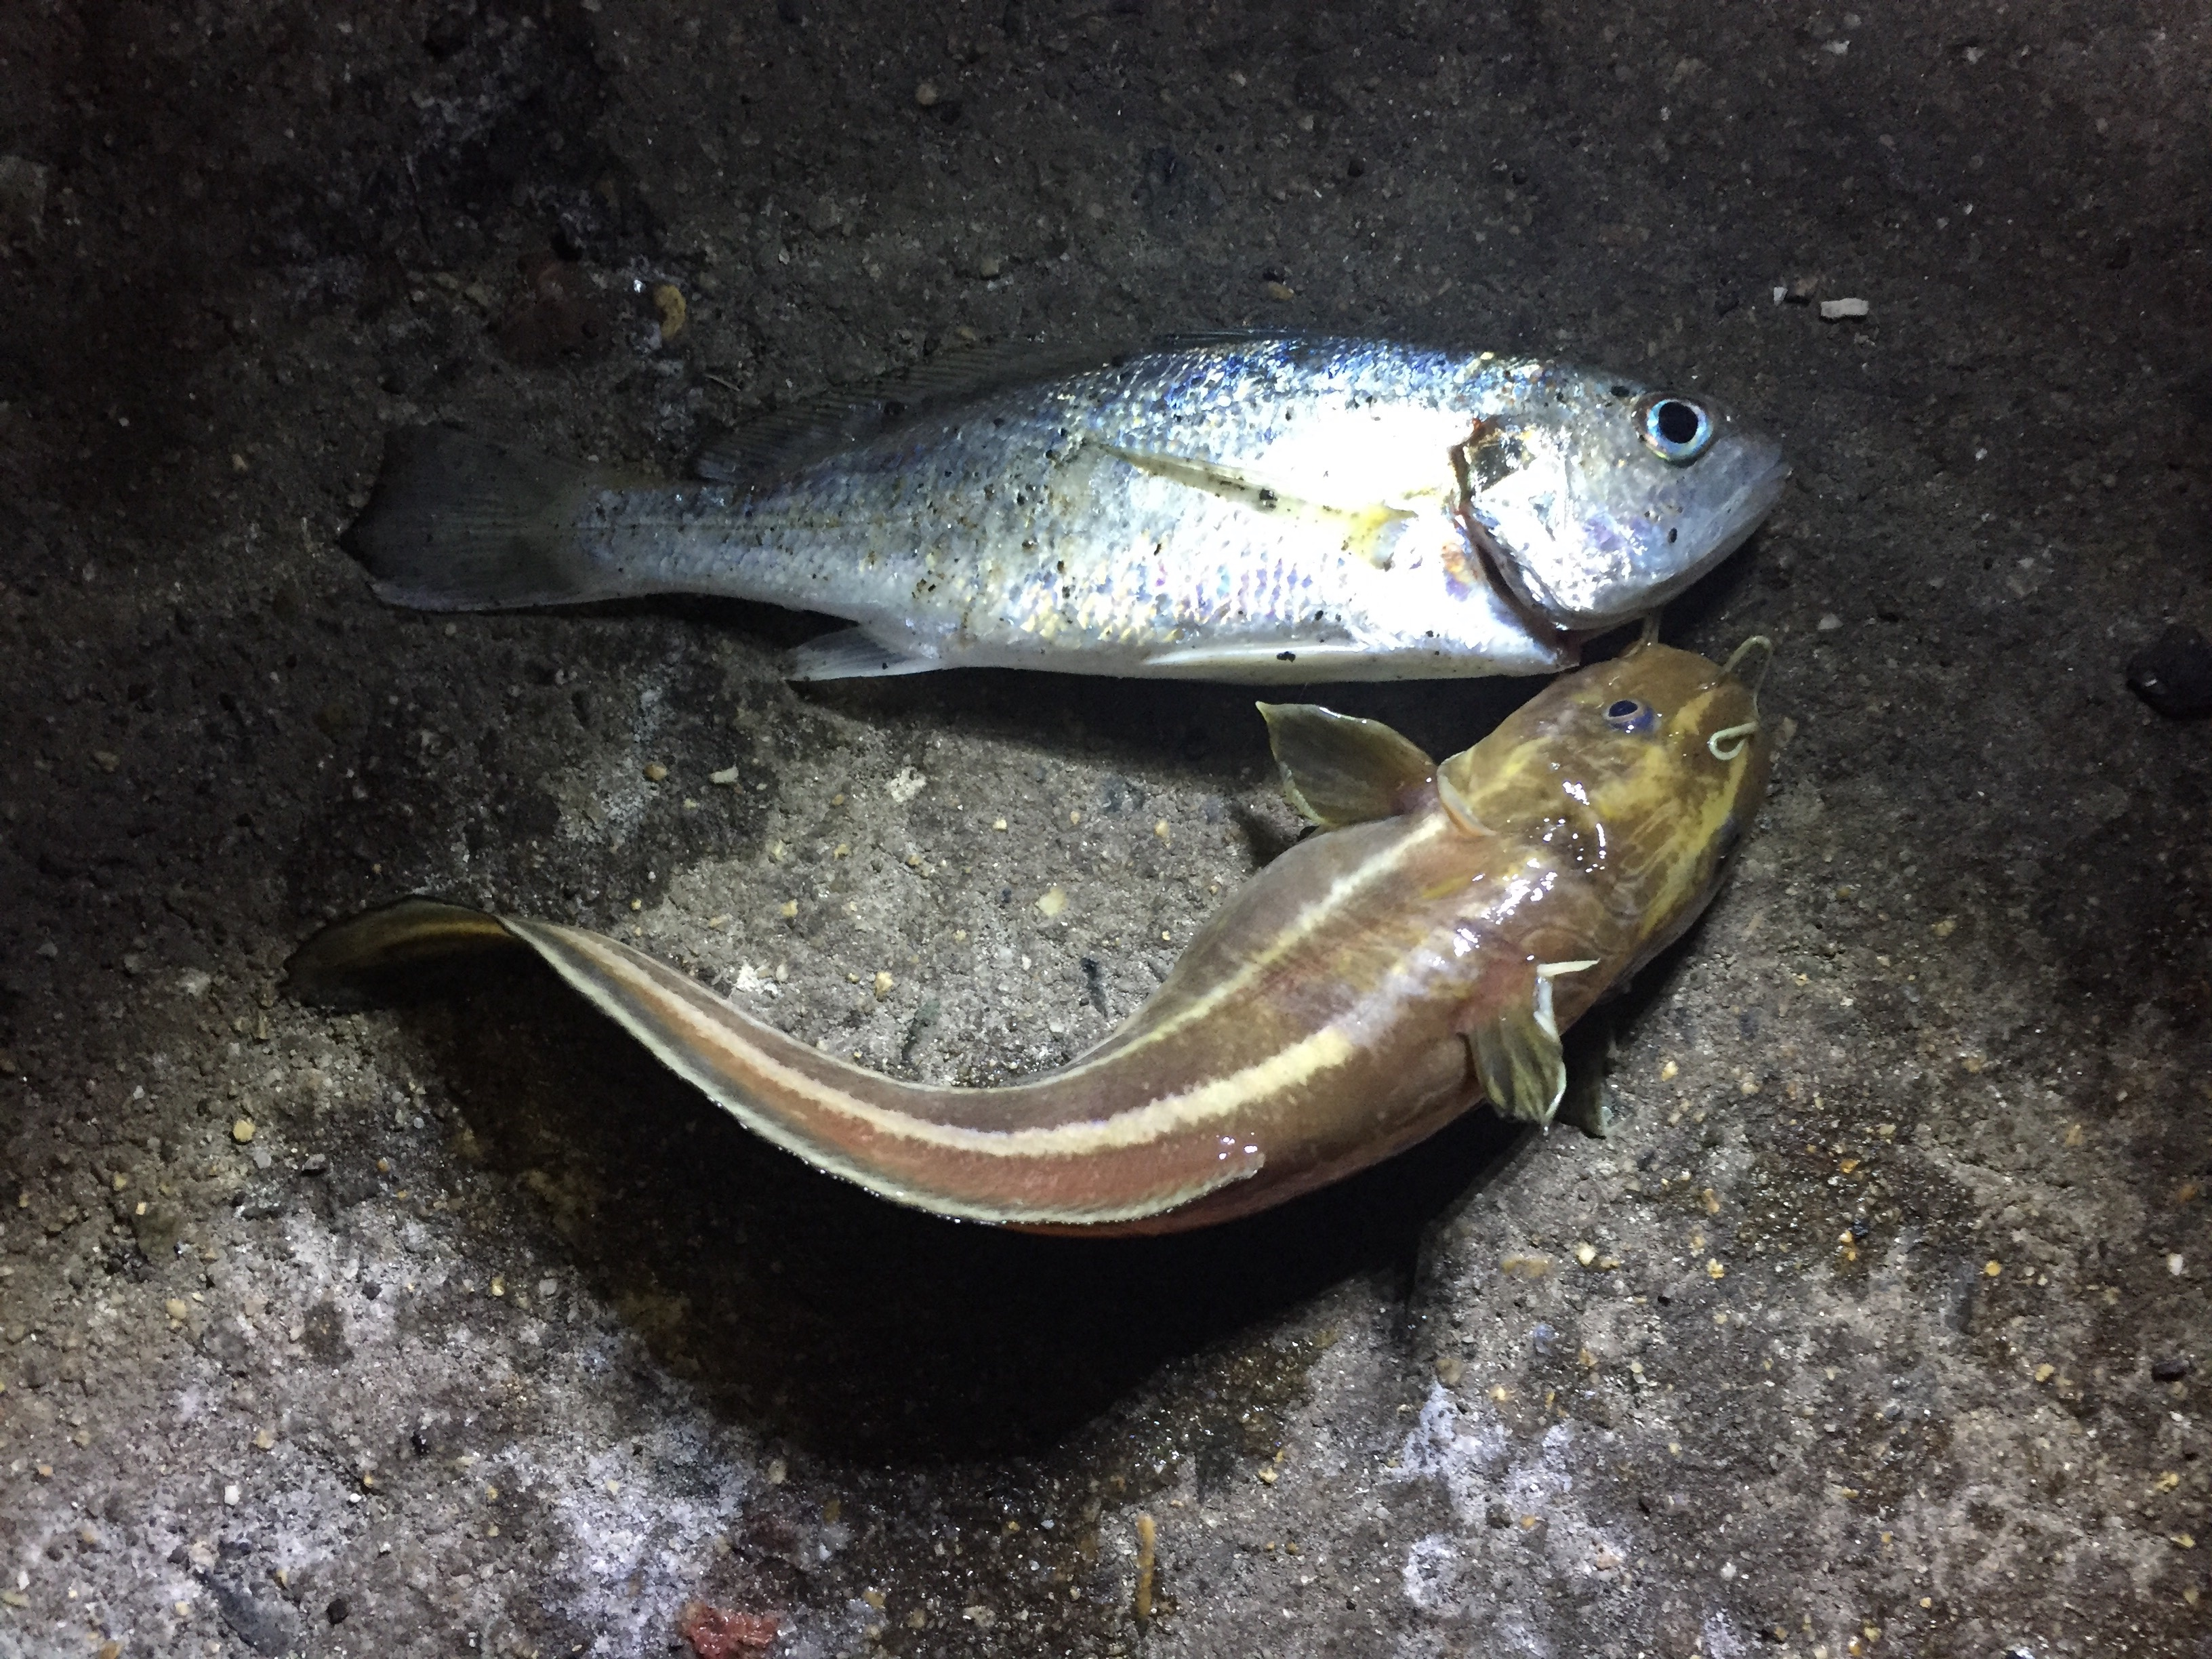gonzui: (260, 634, 1792, 1298)
